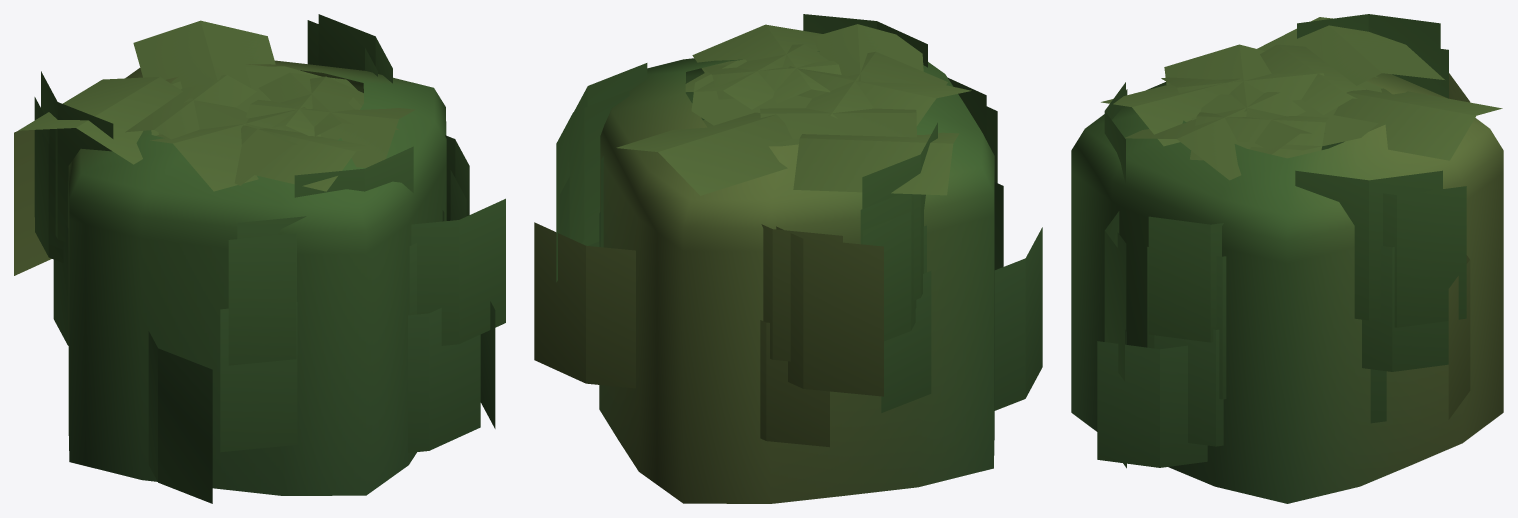
The model's file is hedge_box_b.glb.
3 renders of one model, left to right at view 1: azimuth 30°, elevation 25°; view 2: azimuth 150°, elevation 25°; view 3: azimuth 270°, elevation 25°, orthographic. The views are drawn at different scales.
Parts seen in each view (by area): view 1: isl_hedge_box_b; view 2: isl_hedge_box_b; view 3: isl_hedge_box_b.
Part boxes in pixels (box(x1,y1,x2,y2)): isl_hedge_box_b: box(14, 14, 505, 503); isl_hedge_box_b: box(534, 14, 1042, 503); isl_hedge_box_b: box(1071, 14, 1503, 503).
Size of the model in its own units: 0.7451 by 0.6057 by 0.7387.
